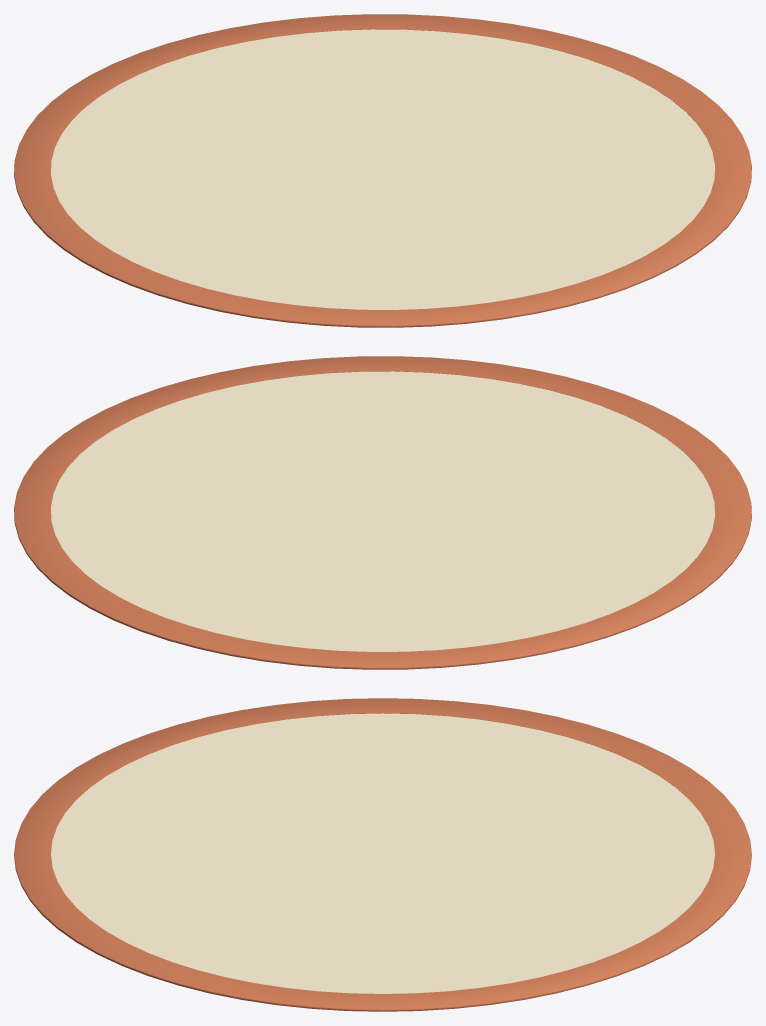
File: rug_round.glb
3 views of the same model, one above another, from view 1: azimuth 30°, elevation 25°; view 2: azimuth 150°, elevation 25°; view 3: azimuth 270°, elevation 25° (orthographic).
Parts seen in each view (by area): view 1: fabric_rug, rug_border; view 2: fabric_rug, rug_border; view 3: fabric_rug, rug_border.
Part boxes in pixels (<box>): fabric_rug: <box>51,29,714,309</box>; rug_border: <box>14,14,751,327</box>; fabric_rug: <box>51,371,714,651</box>; rug_border: <box>14,356,751,669</box>; fabric_rug: <box>51,713,714,993</box>; rug_border: <box>14,698,751,1011</box>.
Size of the model in its own units: 2 by 0.008 by 2.
